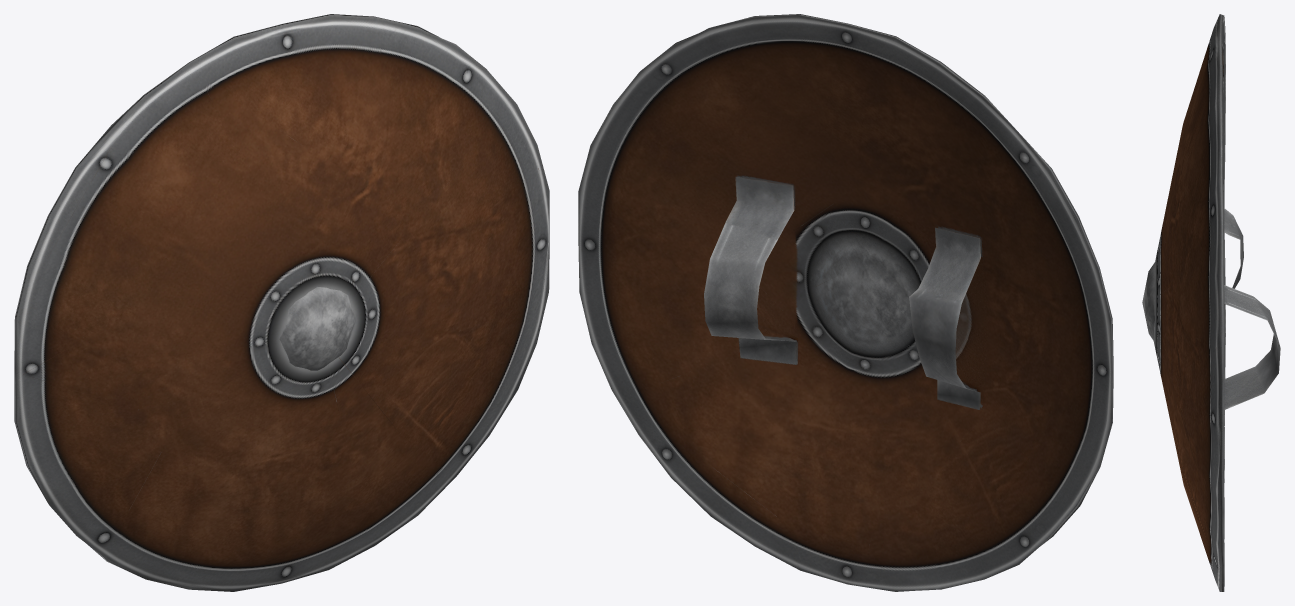
Rendered from Shield.glb.
3 views of the same model, side by side, from view 1: azimuth 30°, elevation 25°; view 2: azimuth 150°, elevation 25°; view 3: azimuth 270°, elevation 25° (orthographic). The views are drawn at different scales.
Bounding box in the file's own units: 1 × 1 × 0.2407.
Materials: 1 (1 with a texture image).
